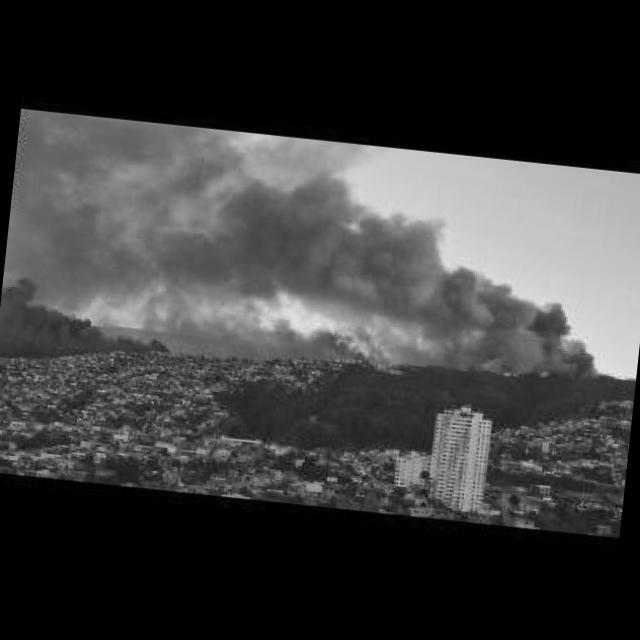fire: (65, 270, 205, 342), (244, 290, 343, 342), (544, 367, 552, 376), (505, 370, 517, 374)
smoke: (174, 167, 592, 331)
